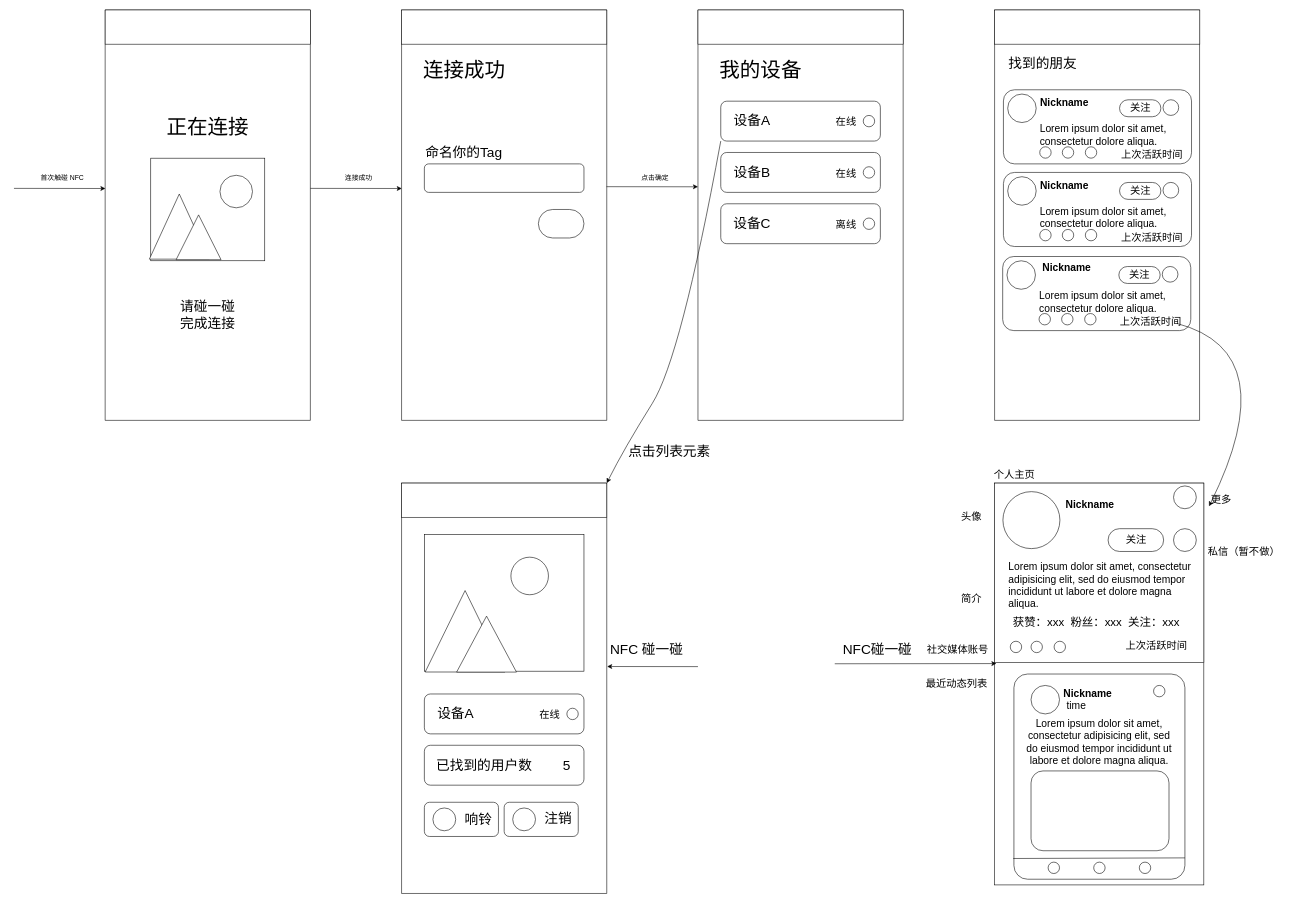
Some shapes in this 1293 by 903 pixel diagram are drawn without their labels. Each missing label, with the box of its shape:
TextField: (424, 163, 584, 192)
确定: (538, 209, 584, 238)
